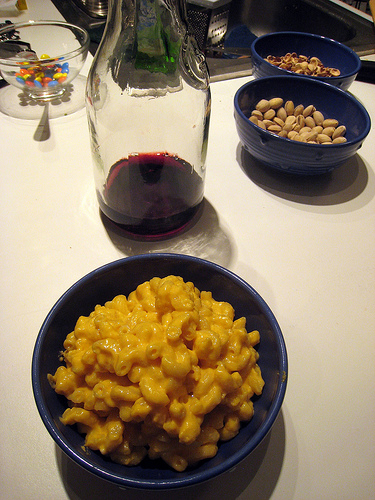macncheese: (46, 274, 264, 474)
